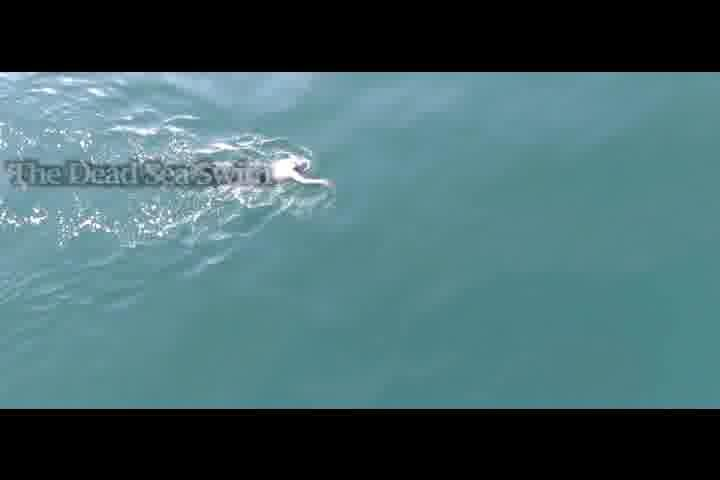human: (261, 148, 340, 198)
